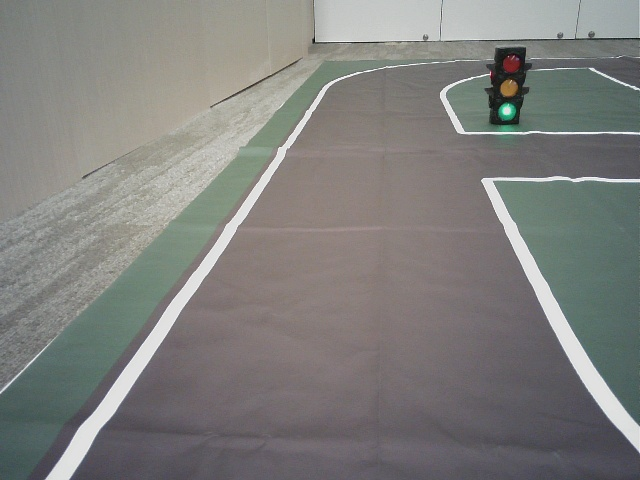green: (497, 50, 521, 122)
